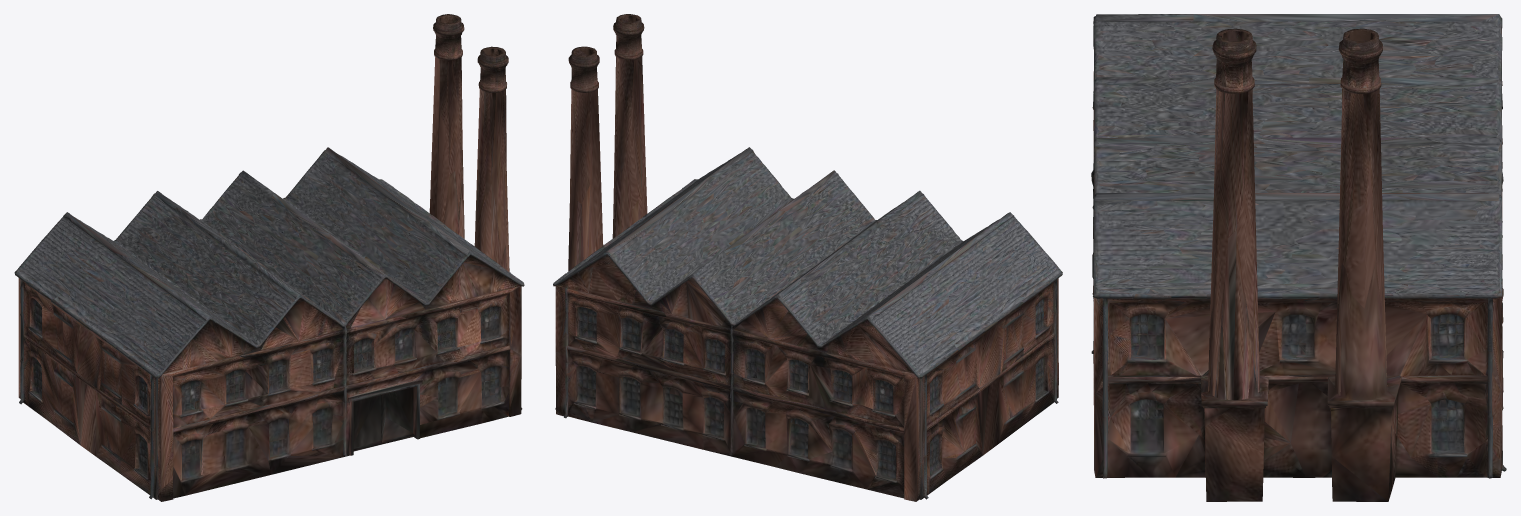
Rendered from brick-factory.glb.
3 renders of one model, left to right at view 1: azimuth 30°, elevation 25°; view 2: azimuth 150°, elevation 25°; view 3: azimuth 270°, elevation 25°, orthographic. The views are drawn at different scales.
Visible parts, largest first — view 1: Mesh_0; view 2: Mesh_0; view 3: Mesh_0.
Boxes of the visible parts, <box> form: Mesh_0: <box>14,14,524,501</box>; Mesh_0: <box>553,14,1062,501</box>; Mesh_0: <box>1091,14,1506,501</box>.
Bounding box in the file's own units: 11.13 × 8.5 × 6.98.
1 material, 1 textured.
